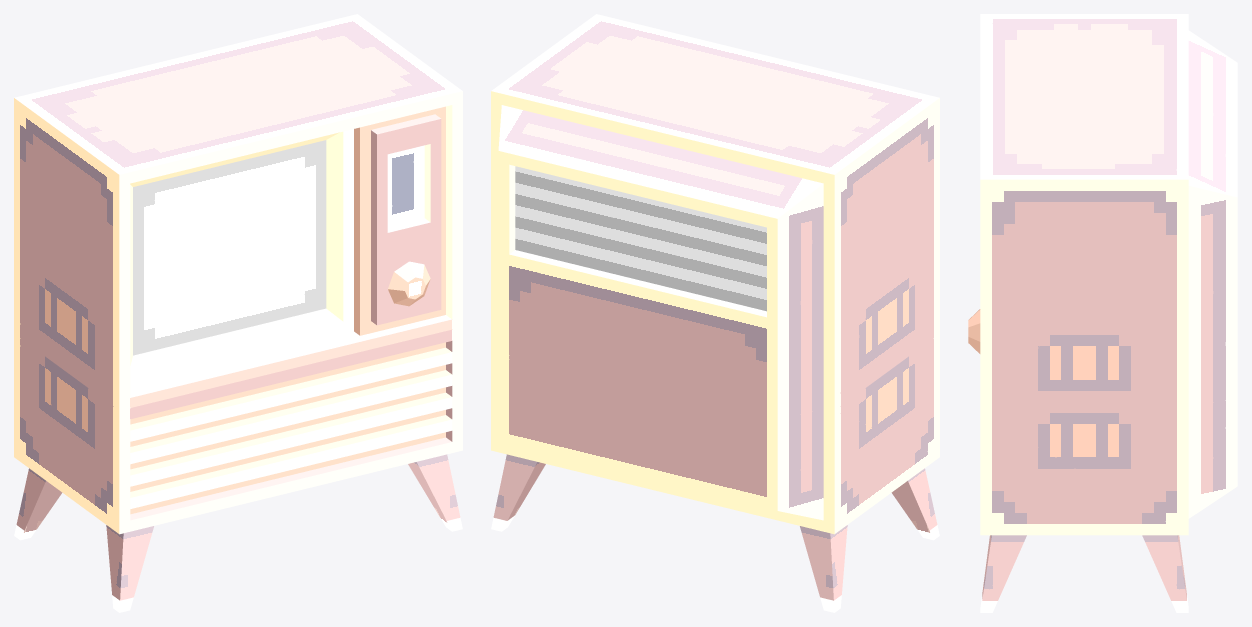
File: SM_Television.glb
The picture shows the model from 3 angles, left to right: view 1: azimuth 30°, elevation 25°; view 2: azimuth 150°, elevation 25°; view 3: azimuth 270°, elevation 25°; orthographic projection.
Parts seen in each view (by area): view 1: SM_Television; view 2: SM_Television; view 3: SM_Television.
Boxes of the visible parts, bbox=[...] form: SM_Television: bbox=[14, 14, 462, 612]; SM_Television: bbox=[491, 14, 939, 612]; SM_Television: bbox=[968, 14, 1237, 612].
Bounding box in the file's own units: 1 × 1.22 × 0.6875.
